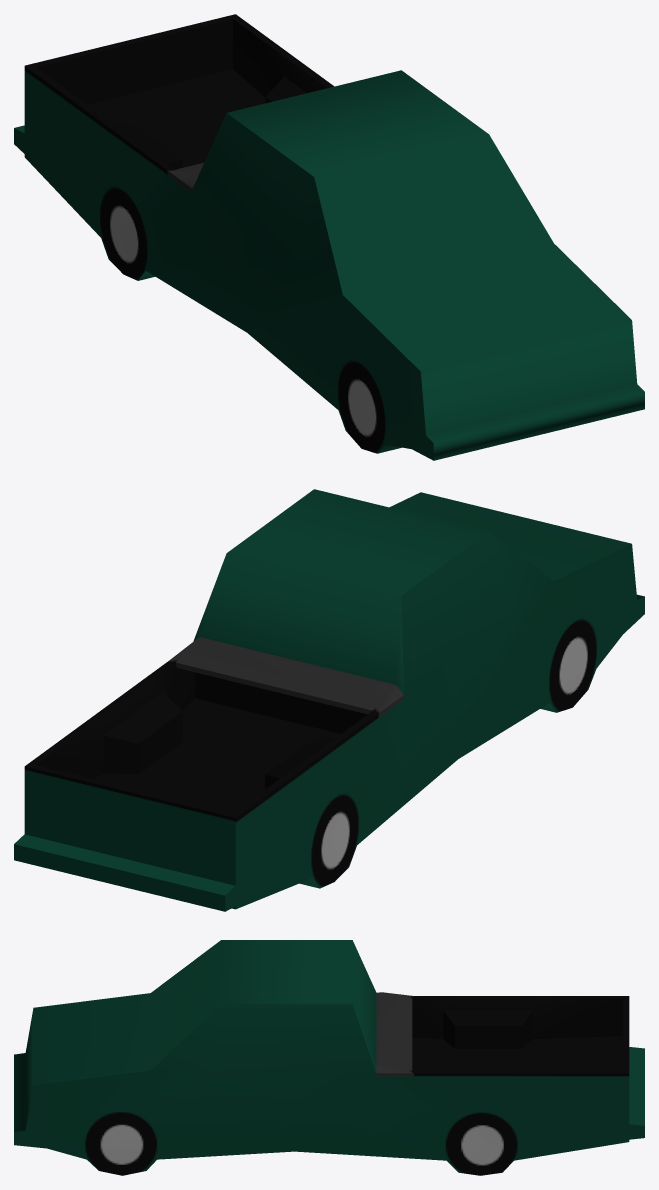
The model's file is truck.fbx.
3 views of the same model, one above another, from view 1: azimuth 30°, elevation 25°; view 2: azimuth 150°, elevation 25°; view 3: azimuth 270°, elevation 25° (orthographic). The views are drawn at different scales.
Visible parts, largest first — view 1: pCube1; view 2: pCube1; view 3: pCube1.
Part boxes in pixels (x1,y1,x2,y2): pCube1: [14, 14, 644, 460]; pCube1: [14, 489, 644, 911]; pCube1: [14, 940, 644, 1175].
Bounding box in the file's own units: 2.22 × 2.21 × 7.65.
1 material, 1 textured.
